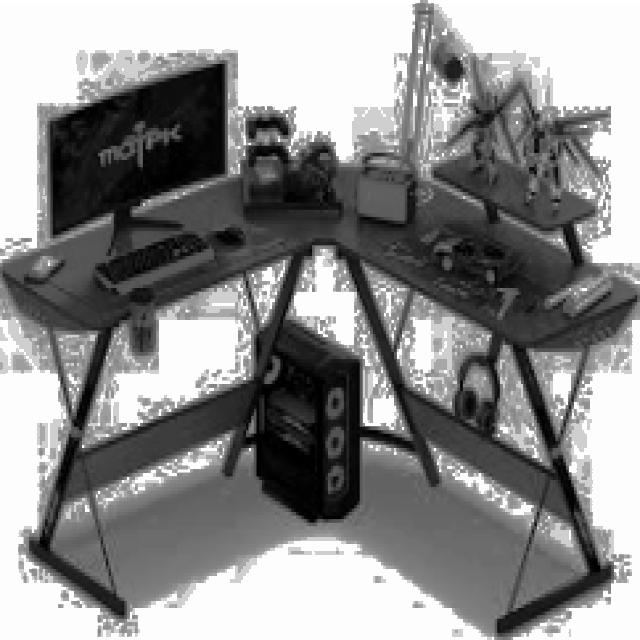table: (0, 156, 637, 629)
